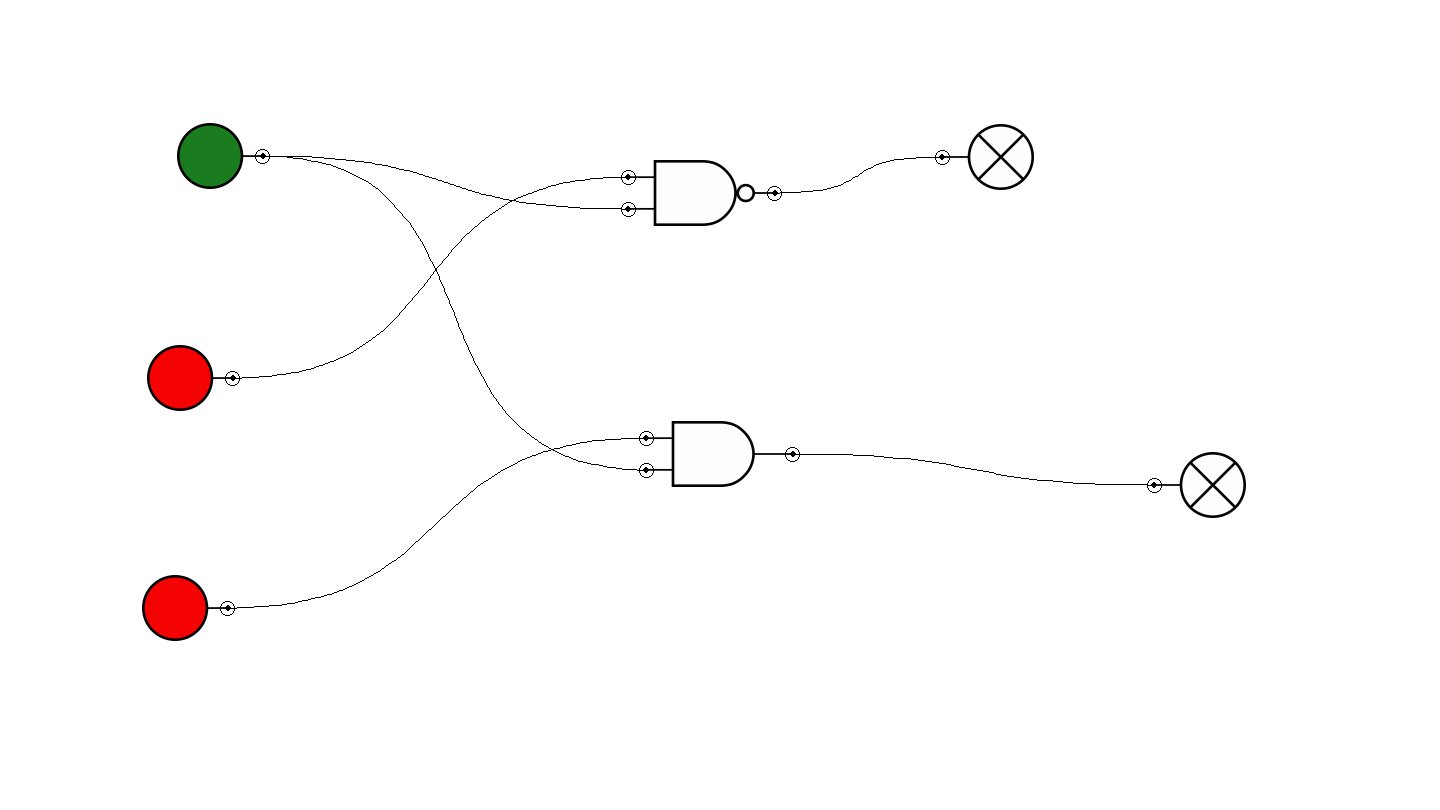and: (639, 421, 800, 487)
bulb: (1147, 452, 1246, 518), (935, 124, 1034, 190)
nand: (621, 160, 782, 226)
switch_False: (142, 575, 235, 641), (147, 345, 240, 411)
switch_True: (177, 123, 270, 189)
